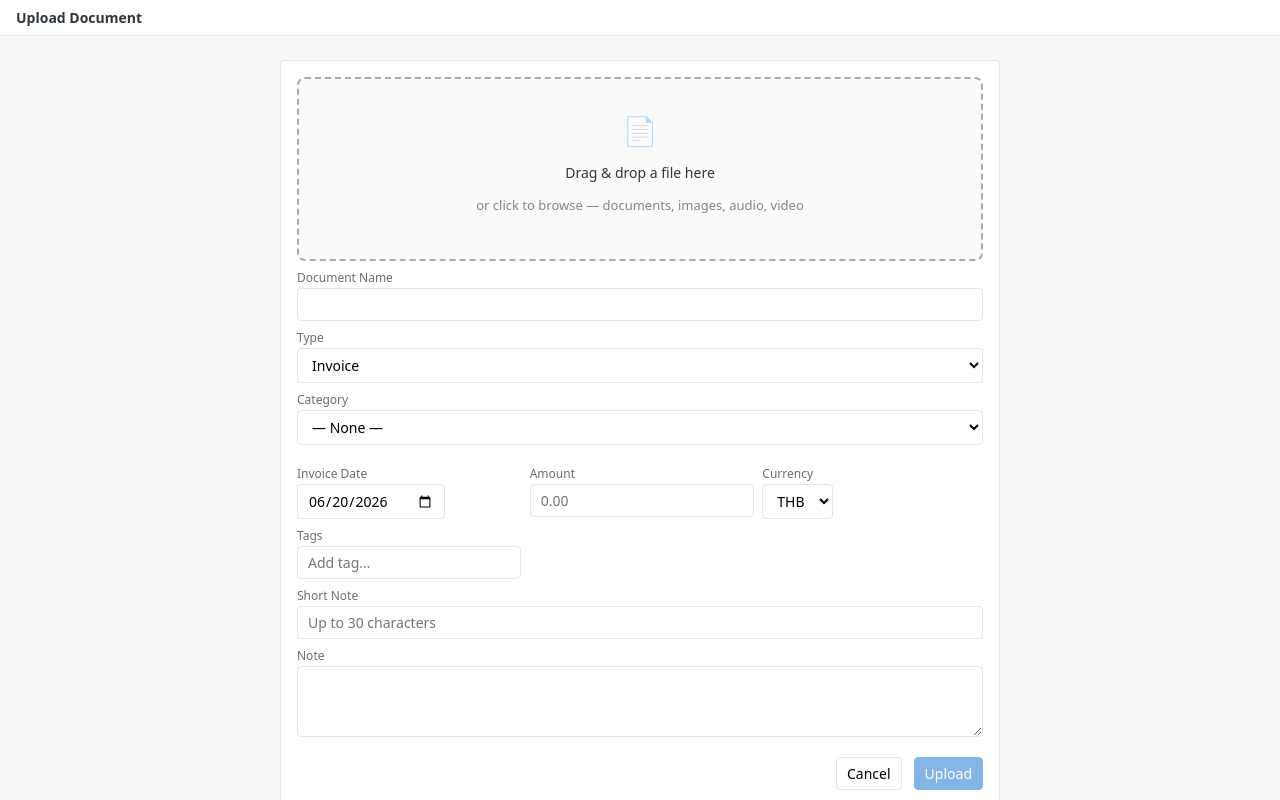
Test case: UploadPage › hides the financial trio for a non-financial type
Select "Contract" in the dropdown labelled "Type": (640, 366) top-left (297, 348), bottom-right (983, 383)
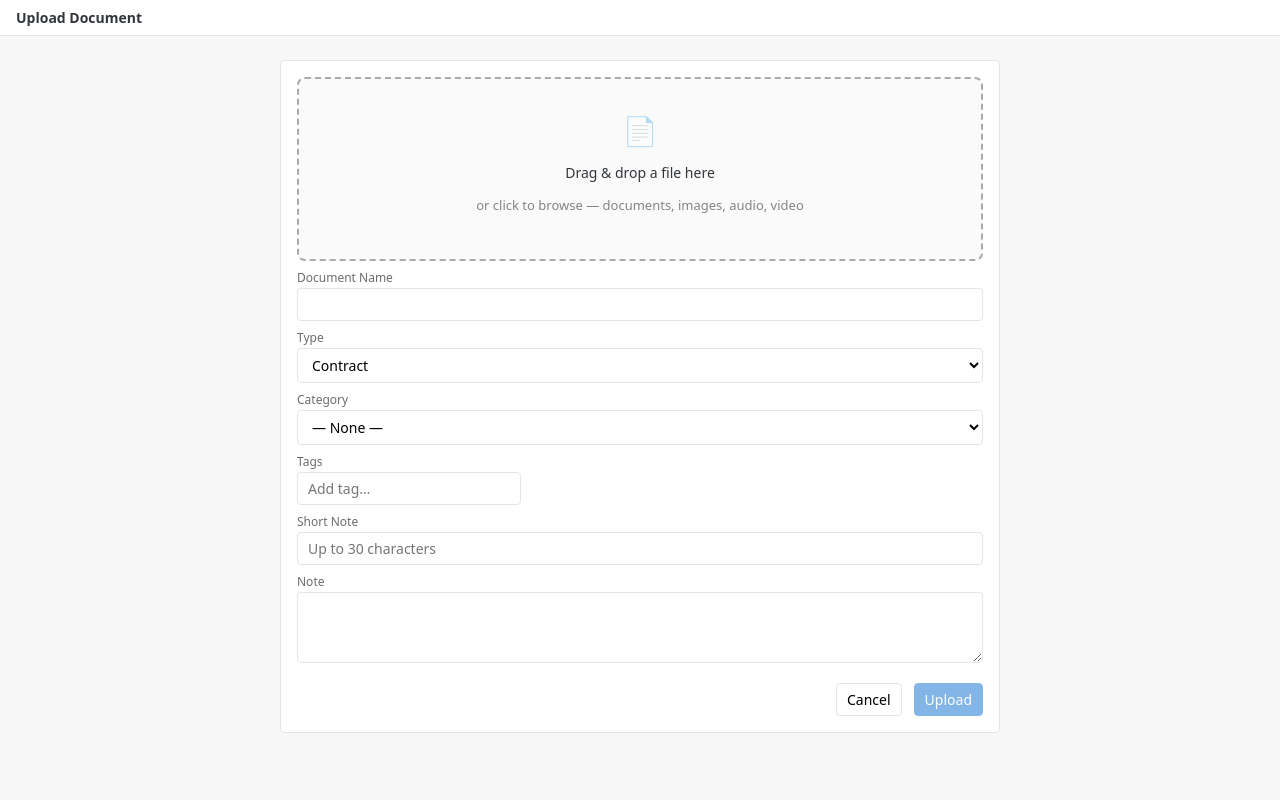
Expected: the label labelled "Amount" is gone
